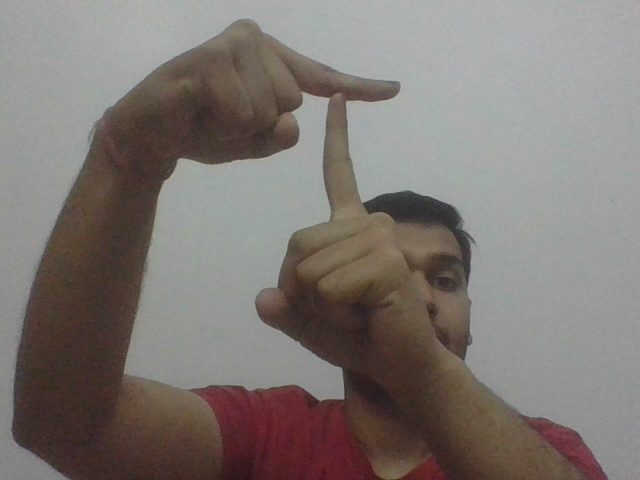T: (302, 53, 402, 189)
